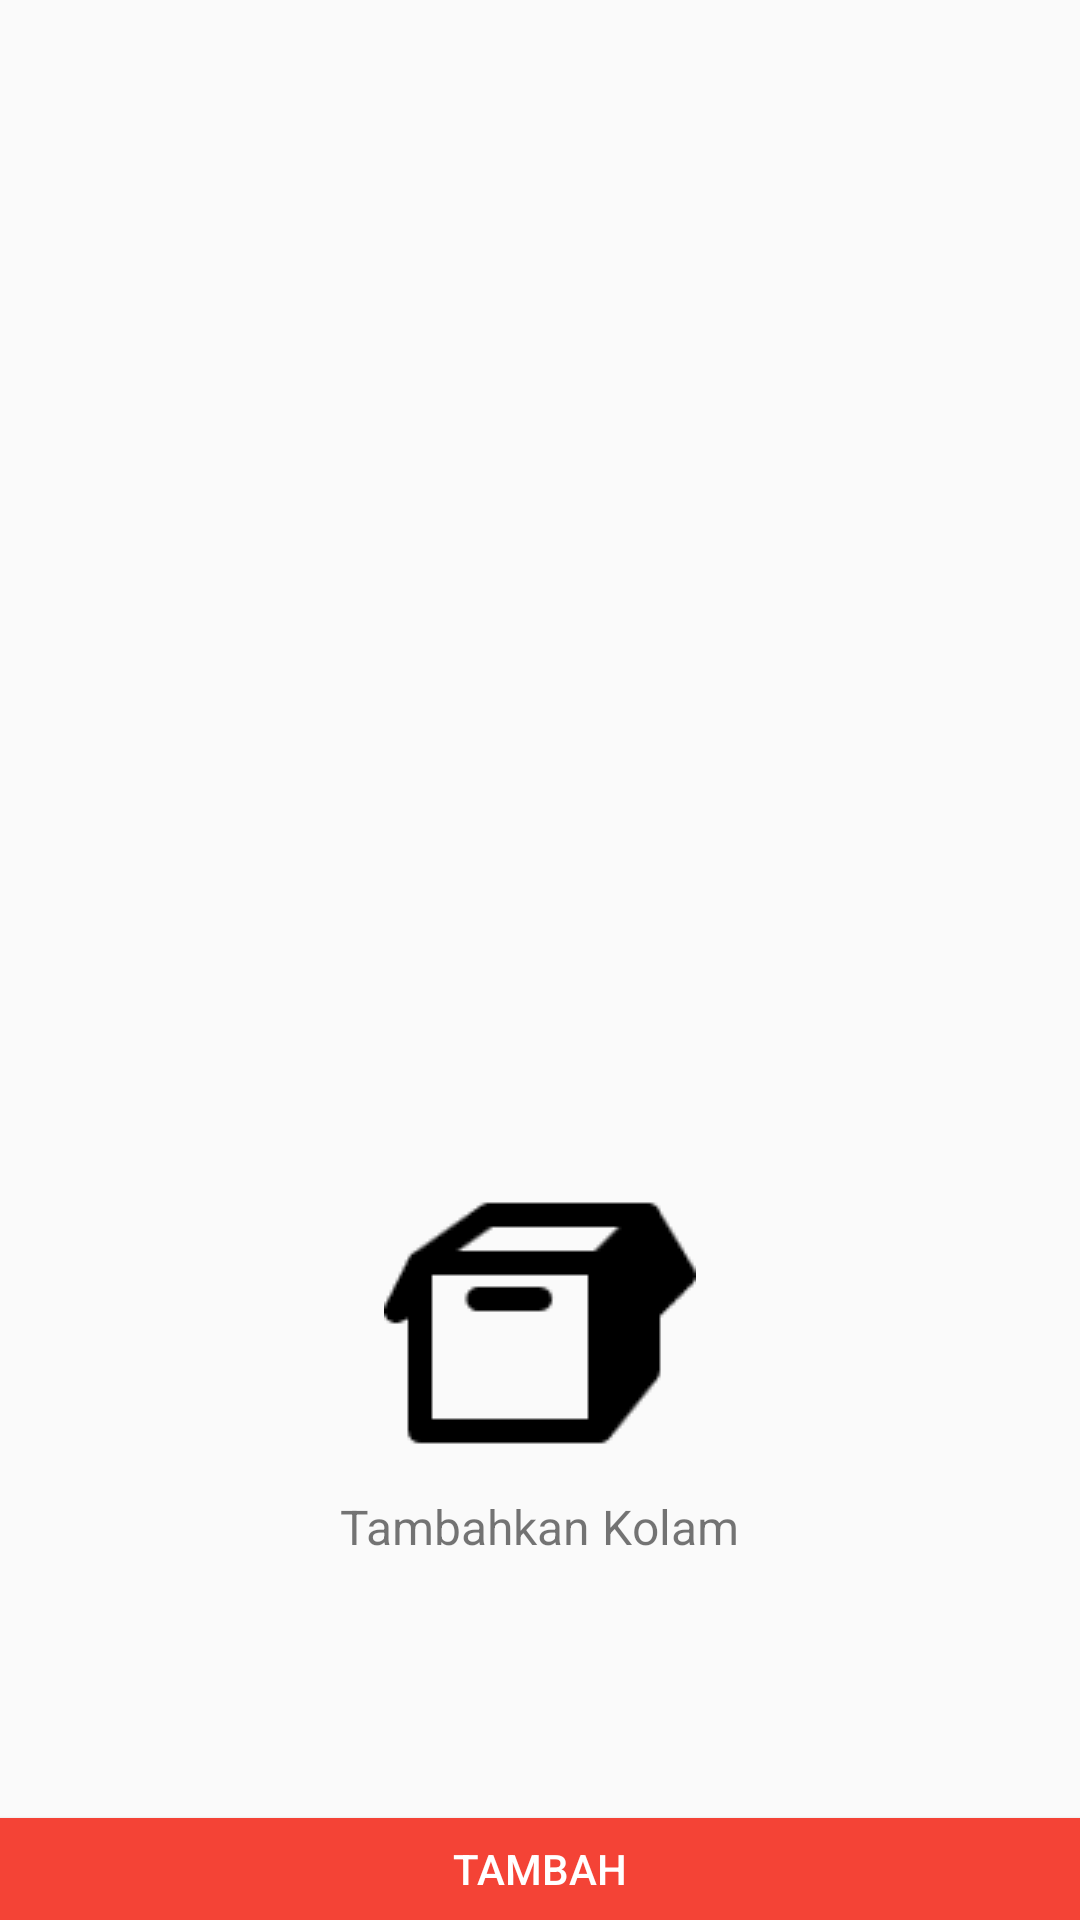

Icon bounding boxes for this 1080 × 1920 phone screenshot, format region(x1, y1, x2, y2):
empty: region(384, 1202, 696, 1444)
